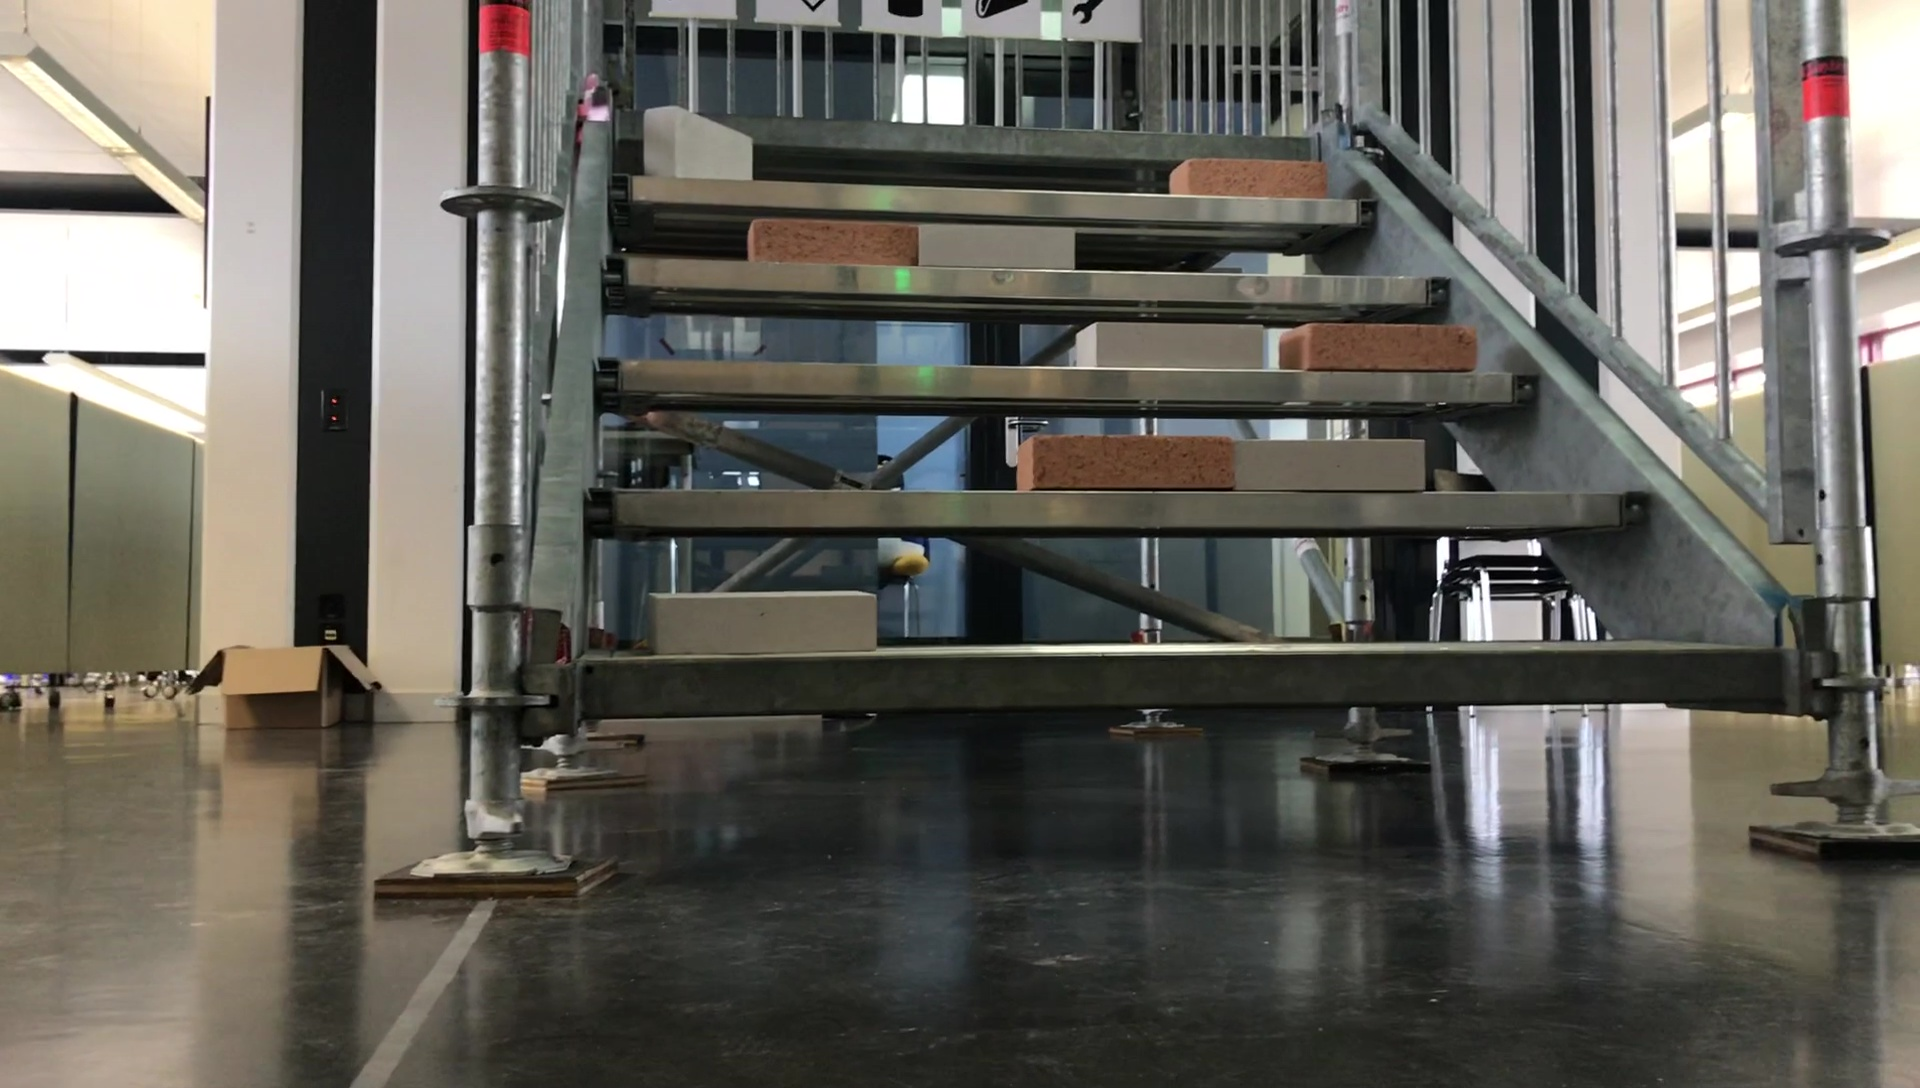brick: (641, 586, 887, 651), (1225, 434, 1433, 501), (1010, 434, 1234, 495), (1280, 315, 1480, 375), (1064, 324, 1269, 376), (640, 102, 757, 182), (742, 218, 913, 272), (1163, 150, 1333, 195), (913, 223, 1079, 258)
edge: (567, 645, 1816, 715), (597, 356, 1536, 404), (595, 484, 1659, 520), (570, 181, 1393, 218), (600, 115, 1329, 150), (595, 274, 1456, 302)
stairs: (455, 0, 1875, 845)
steps: (496, 117, 1834, 717)
